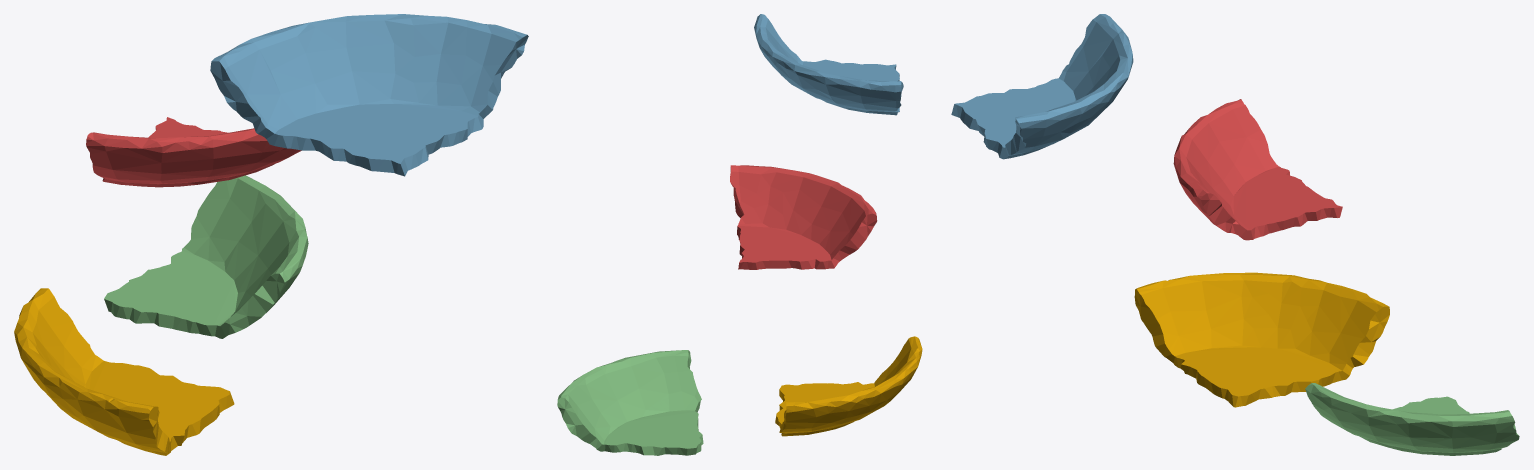
The model's file is fractured_41_4pcs_transformed.glb.
3 views of the same model, side by side, from view 1: azimuth 30°, elevation 25°; view 2: azimuth 150°, elevation 25°; view 3: azimuth 270°, elevation 25° (orthographic). The views are drawn at different scales.
Parts seen in each view (by area): view 1: piece_2.obj, piece_3.obj, piece_0.obj, piece_1.obj; view 2: piece_1.obj, piece_3.obj, piece_2.obj, piece_0.obj; view 3: piece_0.obj, piece_1.obj, piece_2.obj, piece_3.obj.
Boxes of the visible parts, left/top/right/bottom form: piece_2.obj: left=210, top=14, right=528, bottom=176; piece_3.obj: left=104, top=175, right=308, bottom=338; piece_0.obj: left=14, top=288, right=234, bottom=455; piece_1.obj: left=86, top=117, right=301, bottom=187; piece_1.obj: left=730, top=165, right=877, bottom=269; piece_3.obj: left=557, top=350, right=703, bottom=455; piece_2.obj: left=754, top=14, right=903, bottom=115; piece_0.obj: left=775, top=336, right=922, bottom=436; piece_0.obj: left=1134, top=272, right=1389, bottom=407; piece_1.obj: left=1173, top=99, right=1342, bottom=240; piece_2.obj: left=951, top=14, right=1133, bottom=159; piece_3.obj: left=1305, top=383, right=1519, bottom=455.
Size of the model in its own units: 1 by 1.12 by 1.63.
